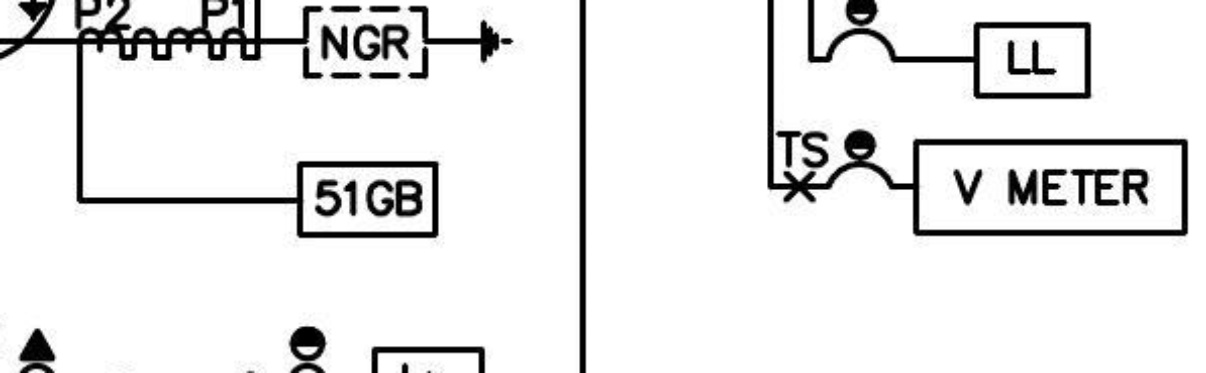LL: (972, 20, 1093, 102)
NGR_future: (301, 5, 515, 80)
v_m_digital: (911, 137, 1189, 238)
